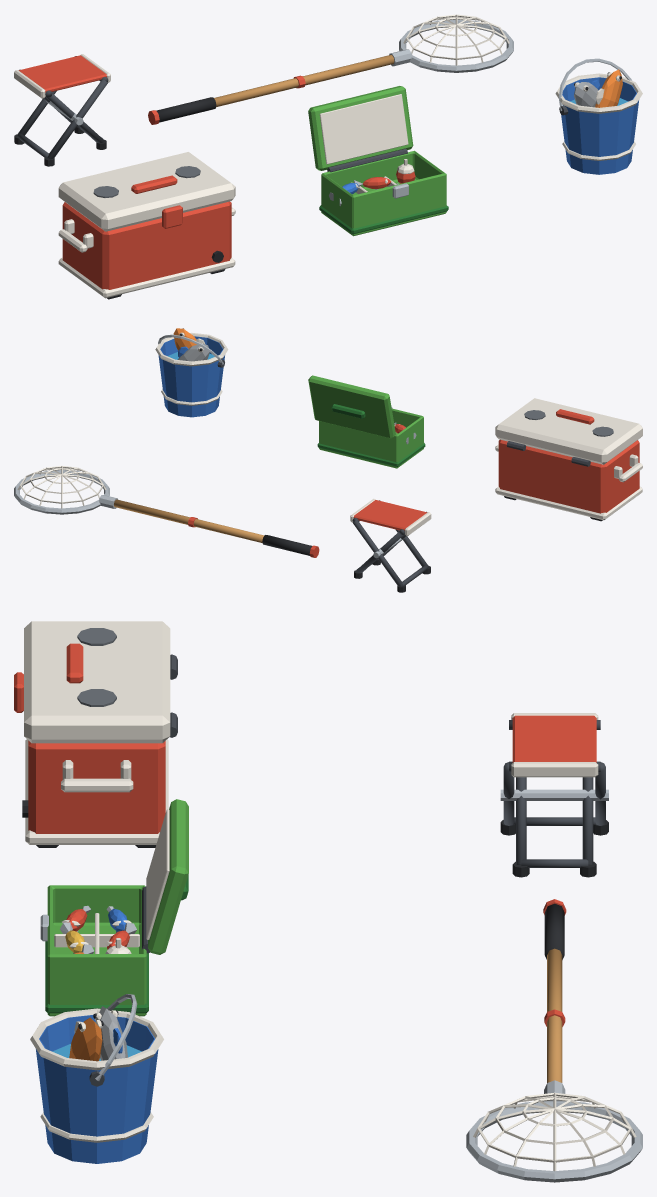
File: low-poly-fishing-gear.glb
The picture shows the model from 3 angles, top to bottom: view 1: azimuth 30°, elevation 25°; view 2: azimuth 150°, elevation 25°; view 3: azimuth 270°, elevation 25°; orthographic projection. The views are drawn at different scales.
Parts seen in each view (by area): view 1: Cooler_Body, Cooler_Lid, TackleBox_Base, Bucket_Body, TackleBox_LidFoam, TackleBox_Lid, Net_Mesh, Stool_Seat, Net_Pole, Net_Hoop, Cooler_Base, Stool_FrameA (+10 smaller); view 2: Cooler_Body, Cooler_Lid, TackleBox_Lid, Bucket_Body, TackleBox_Base, Net_Mesh, Stool_Seat, Net_Pole, Net_Hoop, Cooler_Base, Stool_FrameA, Bucket_Rim (+3 smaller); view 3: Cooler_Lid, Cooler_Body, Bucket_Body, TackleBox_Base, Net_Mesh, Stool_Seat, Net_Hoop, TackleBox_Lid, Stool_FrameB, Bucket_Rim, Cooler_Base, Net_Pole (+10 smaller).
Boxes of the visible parts, <box> form: Cooler_Body: <box>62,201,231,289</box>; Cooler_Lid: <box>58,152,235,231</box>; TackleBox_Base: <box>321,150,446,236</box>; Bucket_Body: <box>561,77,638,174</box>; TackleBox_LidFoam: <box>319,94,408,164</box>; TackleBox_Lid: <box>308,86,413,170</box>; Net_Mesh: <box>403,14,509,65</box>; Stool_Seat: <box>19,55,106,92</box>; Net_Pole: <box>214,55,394,107</box>; Net_Hoop: <box>399,19,513,72</box>; Cooler_Base: <box>58,257,235,298</box>; Stool_FrameA: <box>17,56,108,159</box>; Cooler_Body: <box>498,439,639,513</box>; Cooler_Lid: <box>495,398,642,464</box>; TackleBox_Lid: <box>308,375,395,438</box>; Bucket_Body: <box>158,336,224,417</box>; TackleBox_Base: <box>319,408,423,468</box>; Net_Mesh: <box>17,466,106,508</box>; Stool_Seat: <box>353,500,426,530</box>; Net_Pole: <box>114,499,264,542</box>; Net_Hoop: <box>14,470,109,514</box>; Cooler_Base: <box>495,486,642,520</box>; Stool_FrameA: <box>352,500,428,586</box>; Bucket_Rim: <box>155,332,228,366</box>; Cooler_Lid: <box>24,621,170,743</box>; Cooler_Body: <box>28,740,165,833</box>; Bucket_Body: <box>36,1015,158,1163</box>; TackleBox_Base: <box>47,885,146,1016</box>; Net_Mesh: <box>473,1092,636,1171</box>; Stool_Seat: <box>512,715,596,762</box>; Net_Hoop: <box>466,1101,642,1182</box>; TackleBox_Lid: <box>148,799,188,954</box>; Stool_FrameB: <box>509,720,600,867</box>; Bucket_Rim: <box>30,1008,163,1070</box>; Cooler_Base: <box>25,739,168,844</box>; Net_Pole: <box>547,948,562,1082</box>.
Size of the model in its own units: 13.64 by 2.16 by 8.25.
